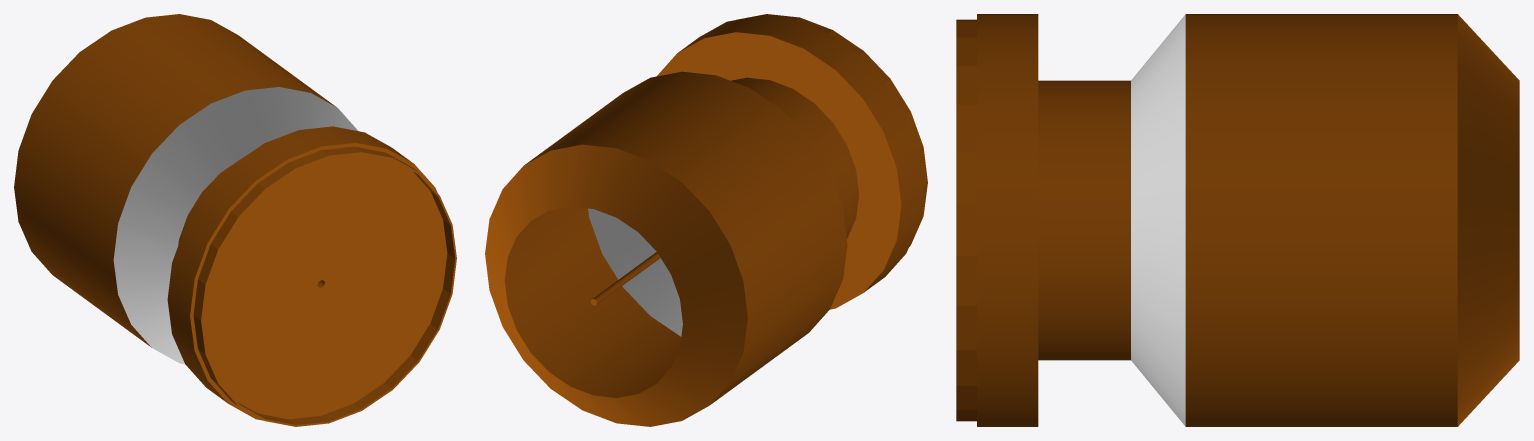
File: model_scale.obj
3 views of the same model, side by side, from view 1: azimuth 30°, elevation 25°; view 2: azimuth 150°, elevation 25°; view 3: azimuth 270°, elevation 25° (orthographic). The views are drawn at different scales.
Visible parts, largest first — view 1: mesh1_mesh1-geometry; view 2: mesh1_mesh1-geometry; view 3: mesh1_mesh1-geometry.
Part boxes in pixels (<box>): mesh1_mesh1-geometry: <box>14,14,456,426</box>; mesh1_mesh1-geometry: <box>485,14,927,426</box>; mesh1_mesh1-geometry: <box>956,14,1519,426</box>.
Size of the model in its own units: 0.0886 by 0.0886 by 0.1203.
